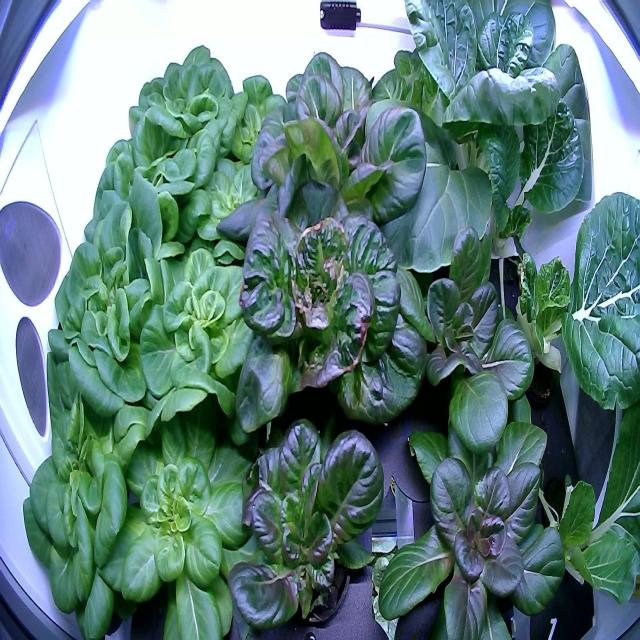Ready: (214, 175, 437, 466), (208, 38, 432, 273), (20, 346, 154, 640), (40, 171, 168, 415), (76, 113, 218, 250), (122, 38, 244, 184)
young: (366, 385, 578, 640), (94, 368, 274, 639), (214, 392, 394, 638), (393, 210, 552, 481), (134, 232, 264, 440), (166, 140, 286, 273), (204, 63, 301, 178)
